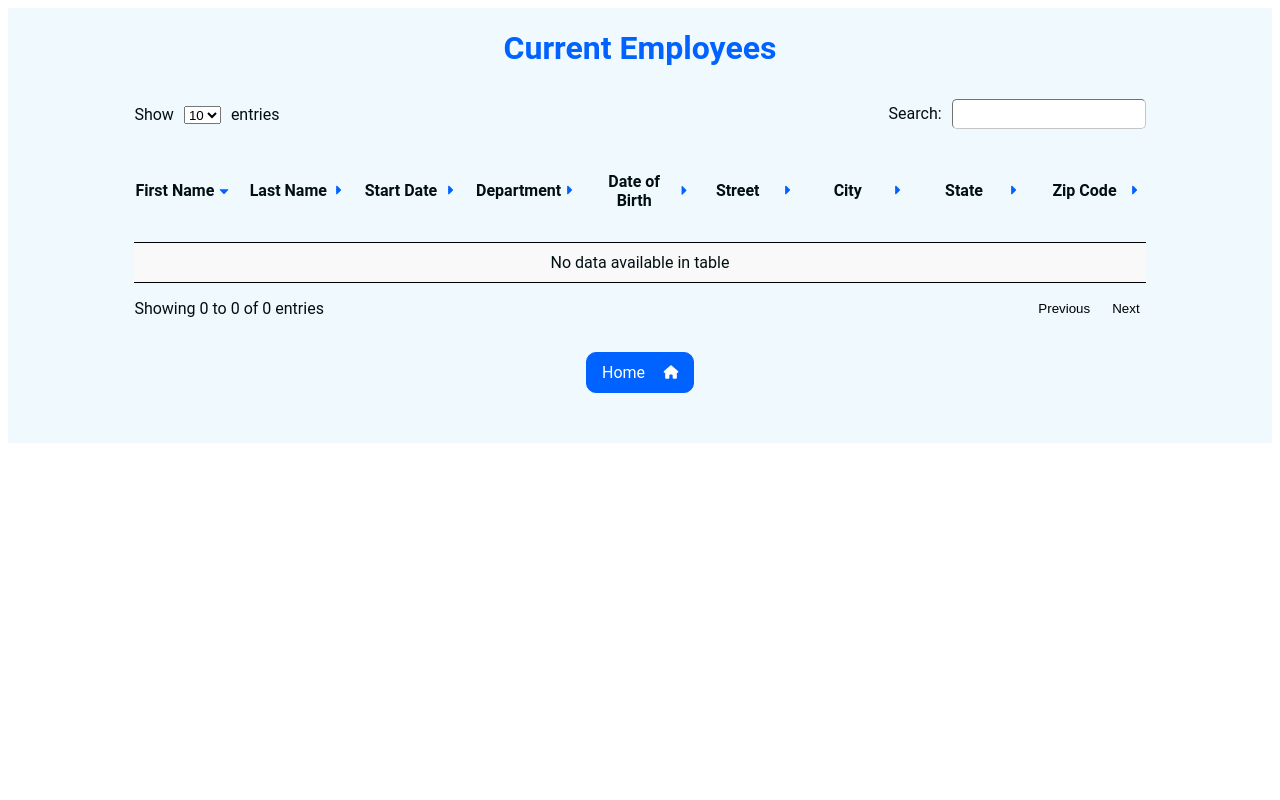
Test: I am on the employee table page › when I click on the button 'home' › should redirect to the home page to create a new employee
Expected: the heading "Current Employees" is shown, [504,29,776,67]
Click the link with test id "btn-home" at (640, 372), box [586,352,694,393]
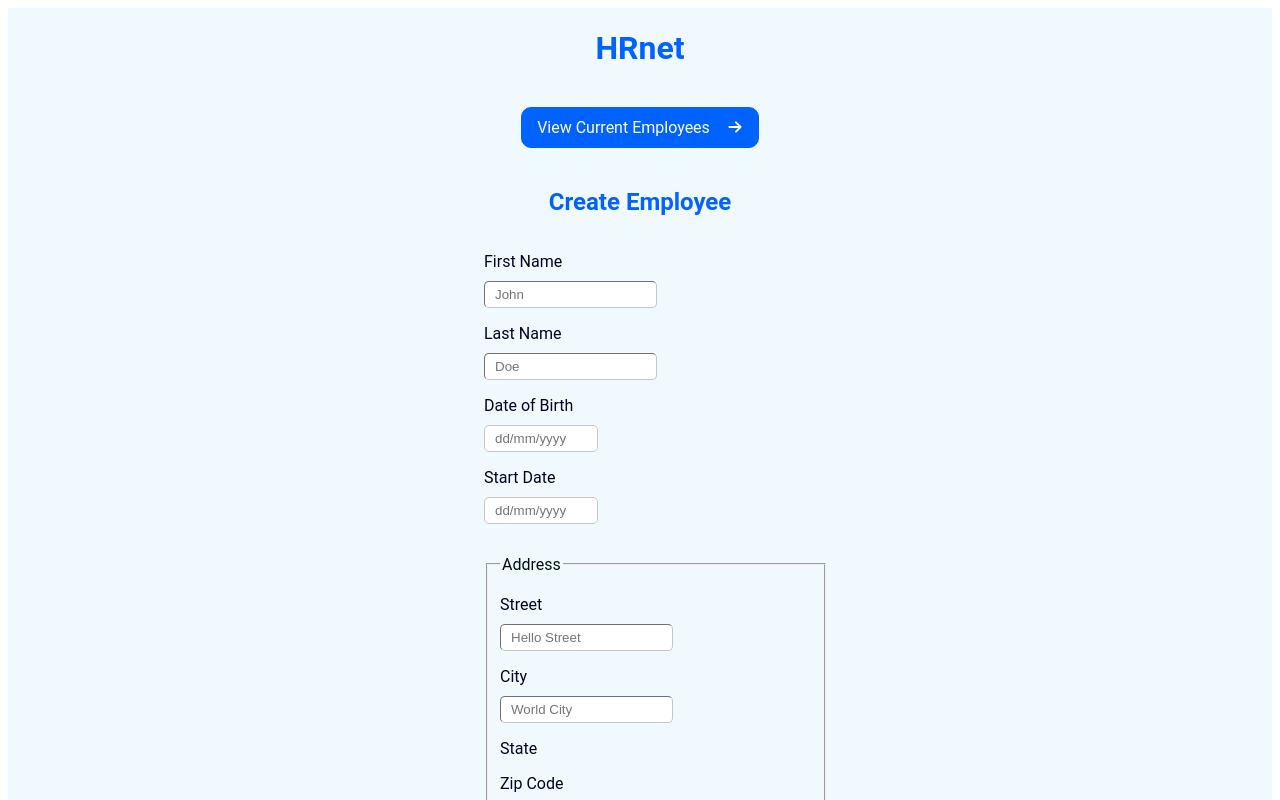
Now the heading "HRnet" is shown, box [596,29,685,67]
Now the heading "Create Employee" is shown, box [549,188,731,216]
